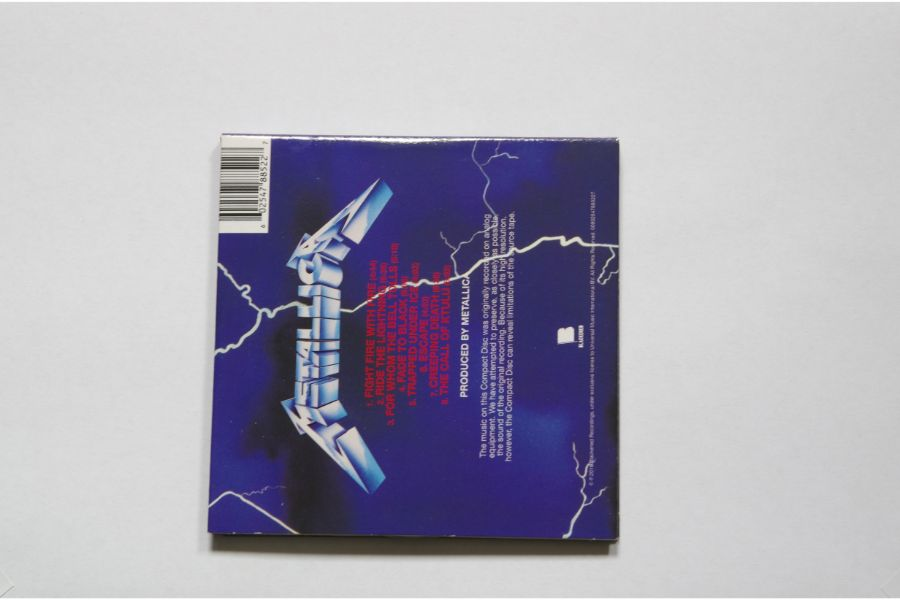album: (210, 131, 620, 545)
